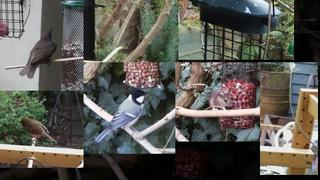great tit: (94, 89, 149, 143)
mouse: (193, 89, 233, 119)
robin: (19, 117, 57, 143)
starling: (19, 27, 57, 79)
